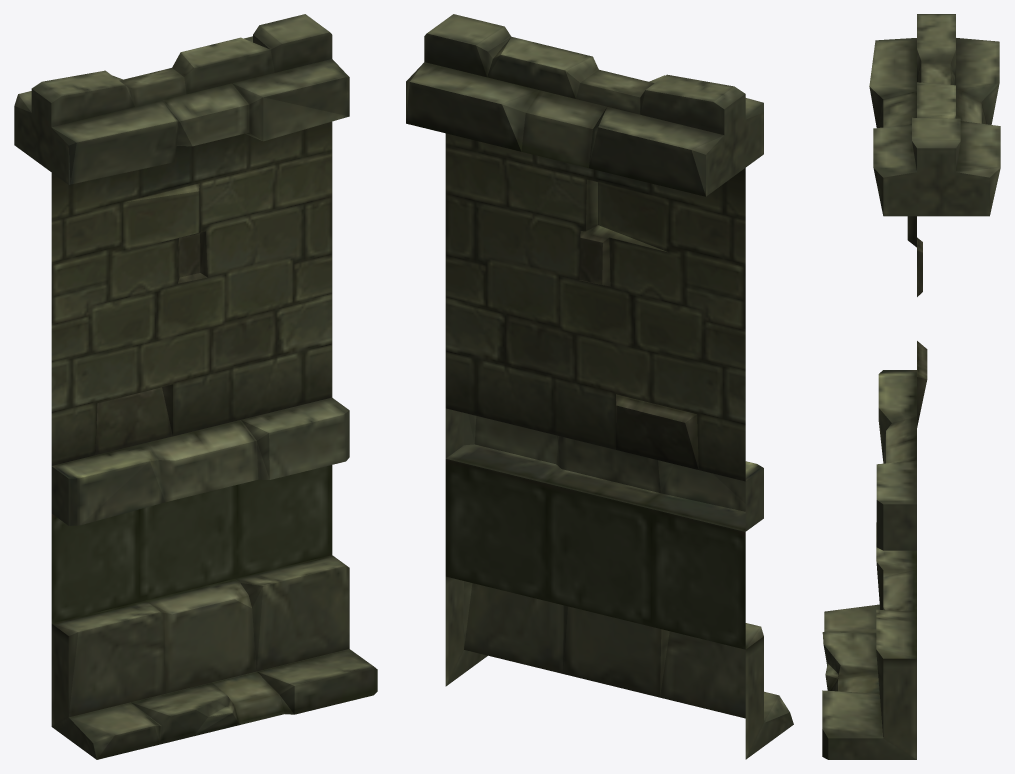
Rendered from wall_02.fbx.
3 renders of one model, left to right at view 1: azimuth 30°, elevation 25°; view 2: azimuth 150°, elevation 25°; view 3: azimuth 270°, elevation 25°, orthographic. The views are drawn at different scales.
Parts seen in each view (by area): view 1: wall_02; view 2: wall_02; view 3: wall_02.
Boxes of the visible parts, bbox=[...] form: wall_02: bbox=[14, 14, 377, 759]; wall_02: bbox=[406, 14, 793, 759]; wall_02: bbox=[822, 14, 1000, 759].
Size of the model in its own units: 200 by 428 by 112.
